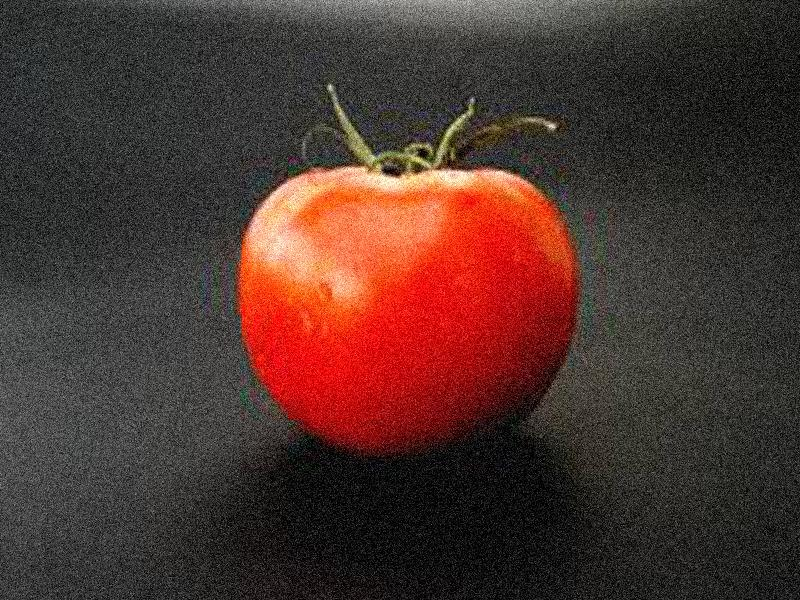Tomato: (235, 167, 575, 452)
